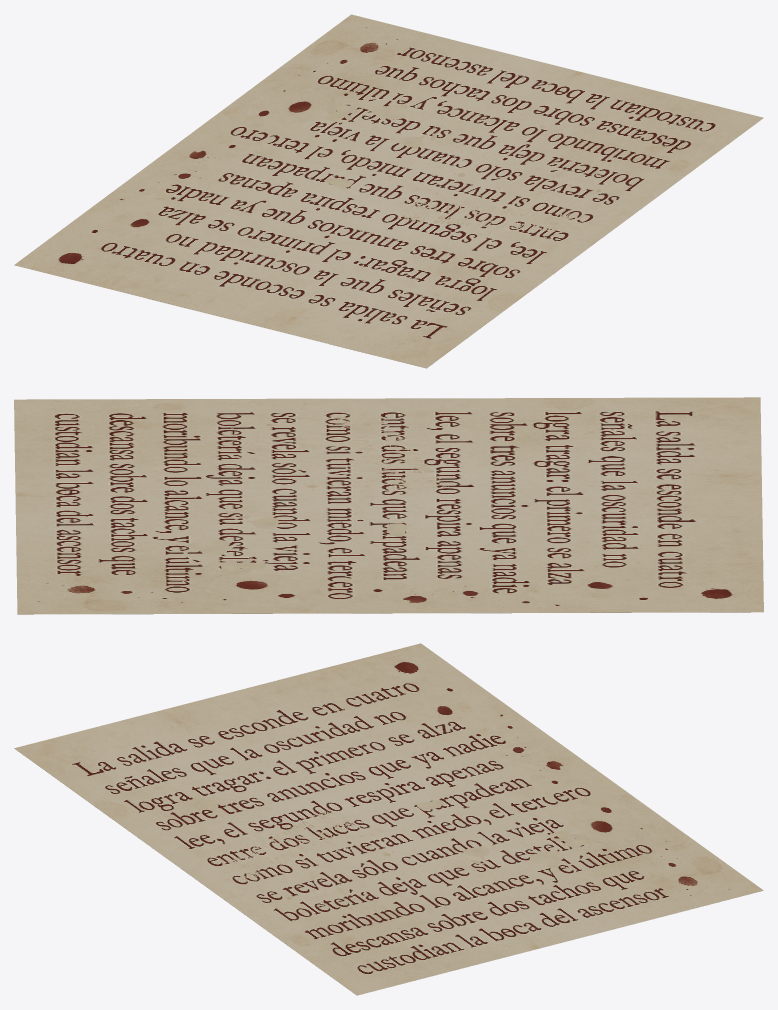
Rendered from Nota.fbx.
The picture shows the model from 3 angles, top to bottom: view 1: azimuth 30°, elevation 25°; view 2: azimuth 150°, elevation 25°; view 3: azimuth 270°, elevation 25°; orthographic projection. The views are drawn at different scales.
Visible parts, largest first — view 1: Paper_A; view 2: Paper_A; view 3: Paper_A.
Part boxes in pixels (x1=…): Paper_A: x1=14, y1=14, x2=763, y2=368; Paper_A: x1=14, y1=397, x2=763, y2=614; Paper_A: x1=14, y1=643, x2=763, y2=995.
Bounding box in the file's own units: 35.61 × 0.2038 × 32.42.
1 material, 1 textured.
